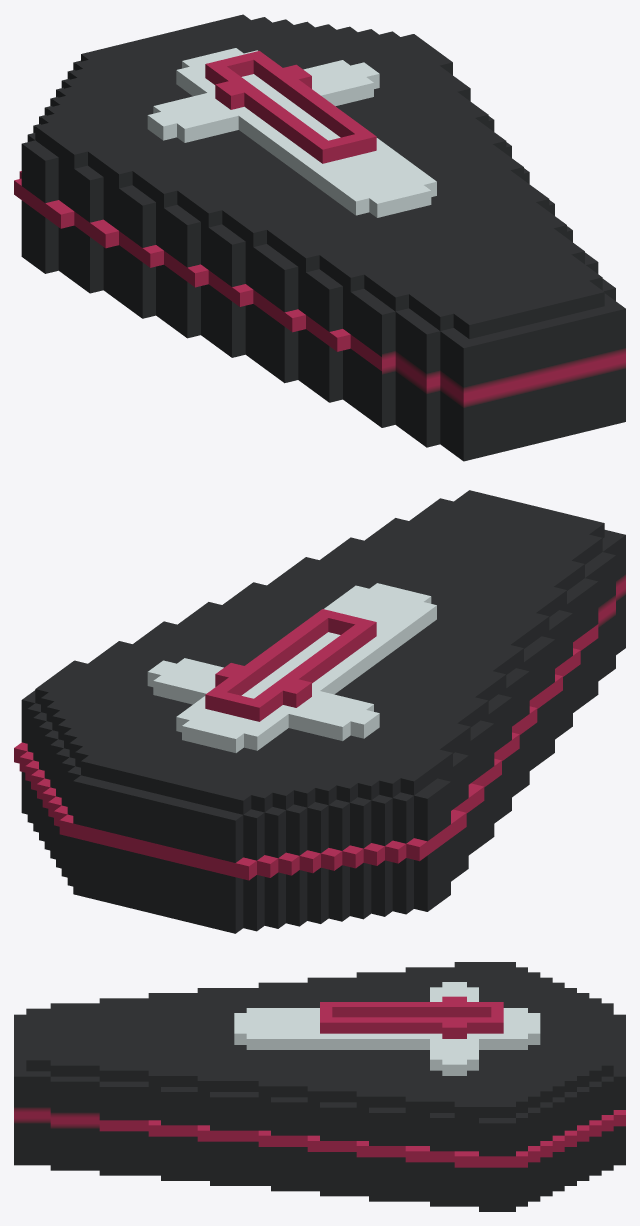
Rendered from Skeleton_Home.fbx.
The picture shows the model from 3 angles, top to bottom: view 1: azimuth 30°, elevation 25°; view 2: azimuth 150°, elevation 25°; view 3: azimuth 270°, elevation 25°; orthographic projection. The views are drawn at different scales.
Visible parts, largest first — view 1: Matrix; view 2: Matrix; view 3: Matrix.
Part boxes in pixels (x1=…): Matrix: x1=14, y1=14, x2=625, y2=461; Matrix: x1=14, y1=490, x2=625, y2=933; Matrix: x1=14, y1=962, x2=625, y2=1211.
Bounding box in the file's own units: 30 × 11 × 50.
1 material, 1 textured.
